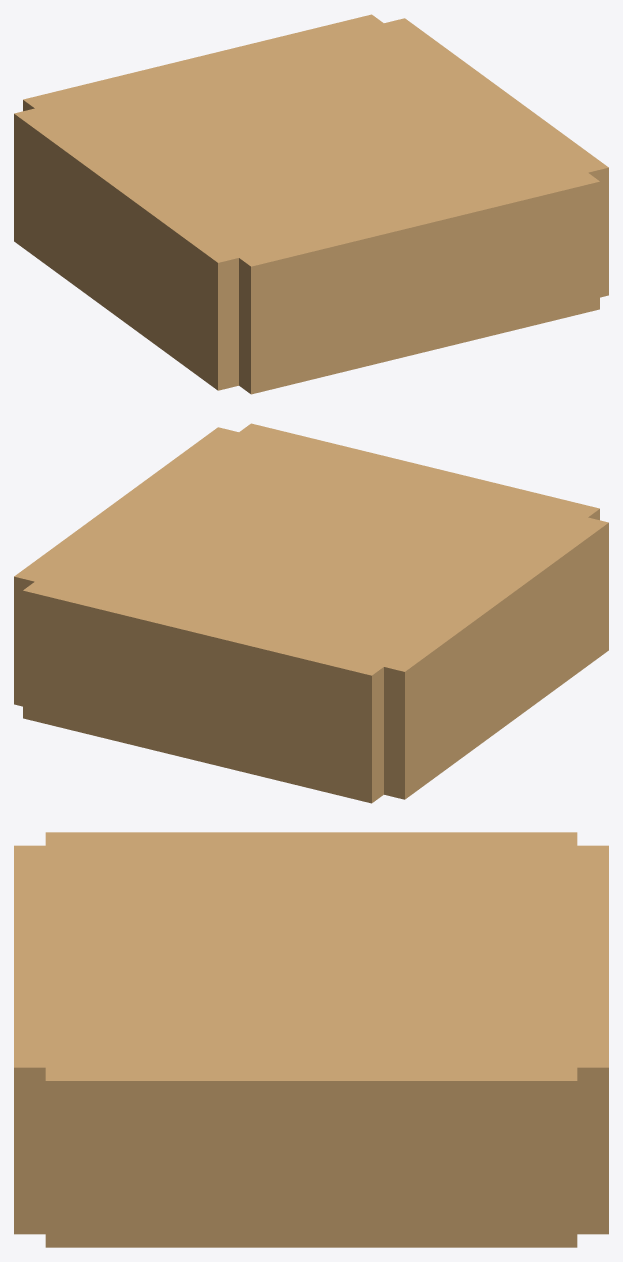
The model's file is board.glb.
3 views of the same model, one above another, from view 1: azimuth 30°, elevation 25°; view 2: azimuth 150°, elevation 25°; view 3: azimuth 270°, elevation 25° (orthographic). The views are drawn at different scales.
Parts seen in each view (by area): view 1: Unified_Net_2_Island_8, Unified_Net_1_Island_11, Unified_Net_4_Island_2, Unified_Net_3_Island_4; view 2: Unified_Net_2_Island_8, Unified_Net_4_Island_2, Unified_Net_1_Island_11, Unified_Net_3_Island_4; view 3: Unified_Net_2_Island_8, Unified_Net_3_Island_4, Unified_Net_4_Island_2, Unified_Net_1_Island_11.
Part boxes in pixels (x1,y1,x2,y2): Unified_Net_2_Island_8: (47, 32, 599, 394); Unified_Net_1_Island_11: (14, 108, 238, 390); Unified_Net_4_Island_2: (23, 14, 395, 117); Unified_Net_3_Island_4: (384, 18, 608, 297); Unified_Net_2_Island_8: (47, 423, 599, 657); Unified_Net_4_Island_2: (23, 573, 395, 803); Unified_Net_1_Island_11: (384, 517, 608, 799); Unified_Net_3_Island_4: (14, 427, 238, 706); Unified_Net_2_Island_8: (14, 845, 545, 1234); Unified_Net_3_Island_4: (45, 1067, 577, 1247); Unified_Net_4_Island_2: (546, 845, 608, 1234); Unified_Net_1_Island_11: (45, 832, 577, 845).
Bounding box in the file's own units: 0.000112 × 3.61e-05 × 0.000113.
